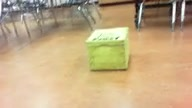cube: (86, 28, 128, 70)
